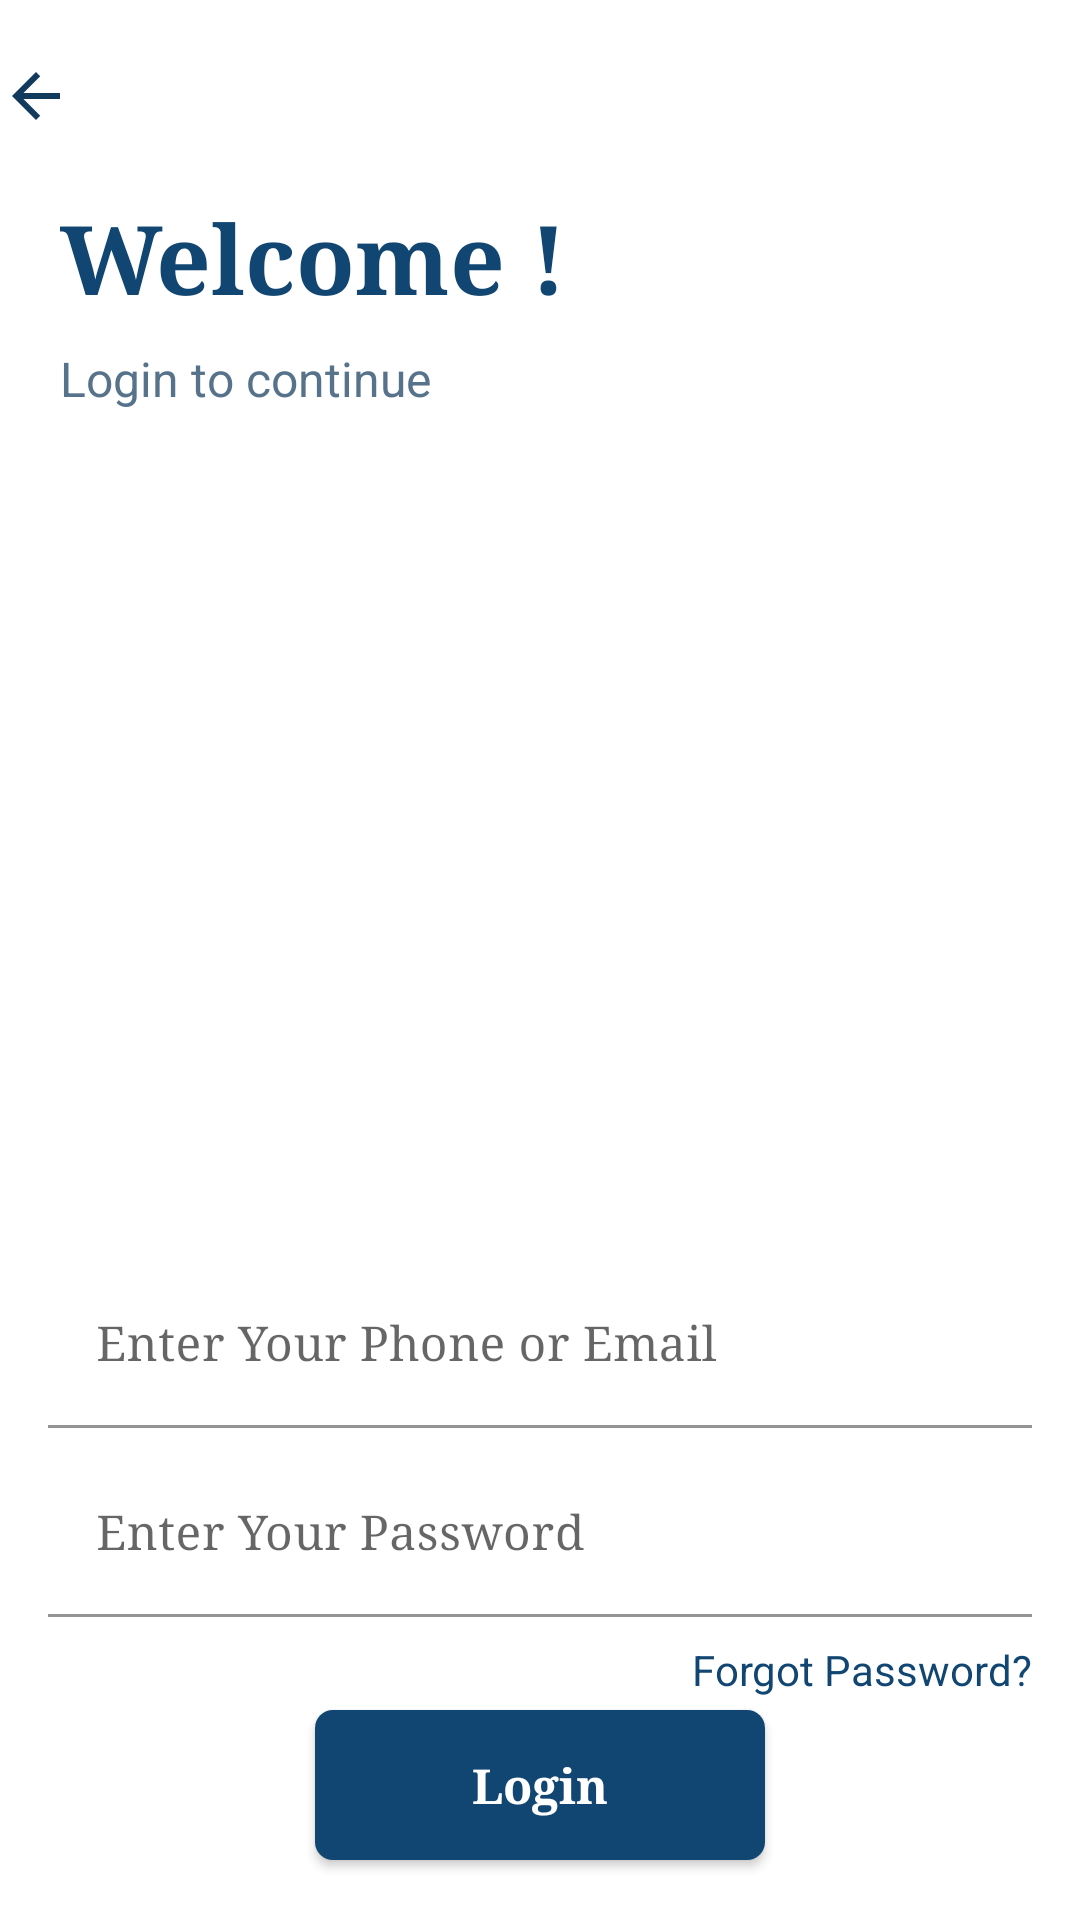

Icons on this 1080px×1920px Android screen, each with the point to tap as (x,y):
arrow back: (36,96)
